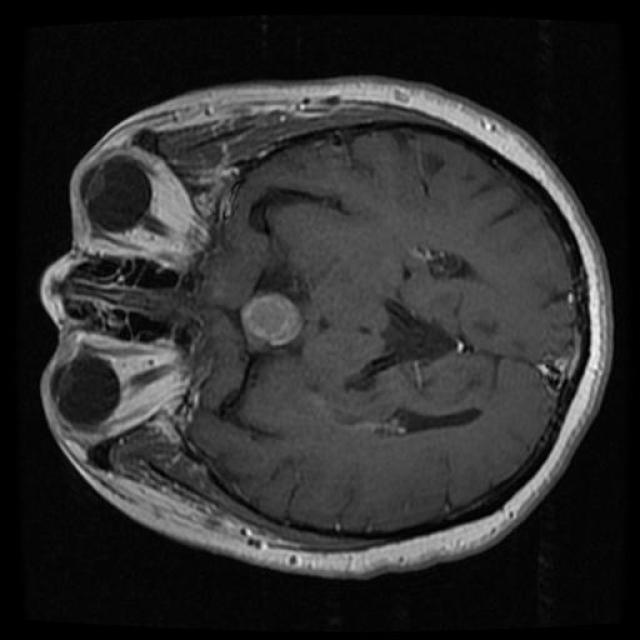Pituitary: (241, 293, 303, 352)
